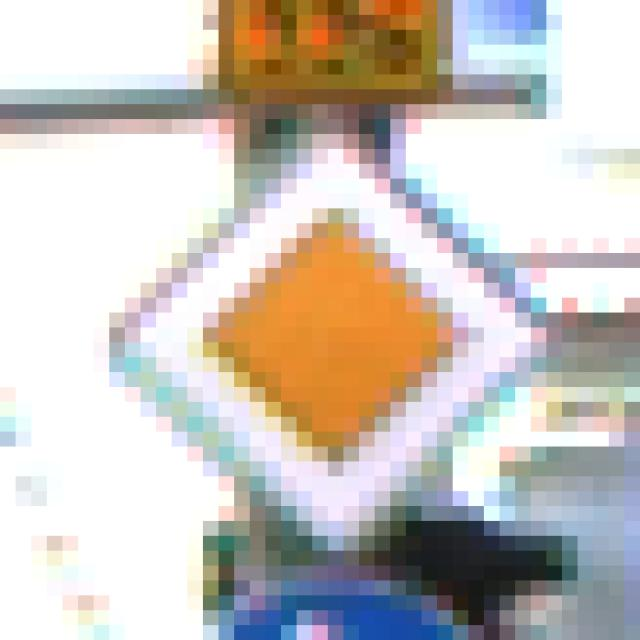Main Road: (79, 90, 547, 567)
